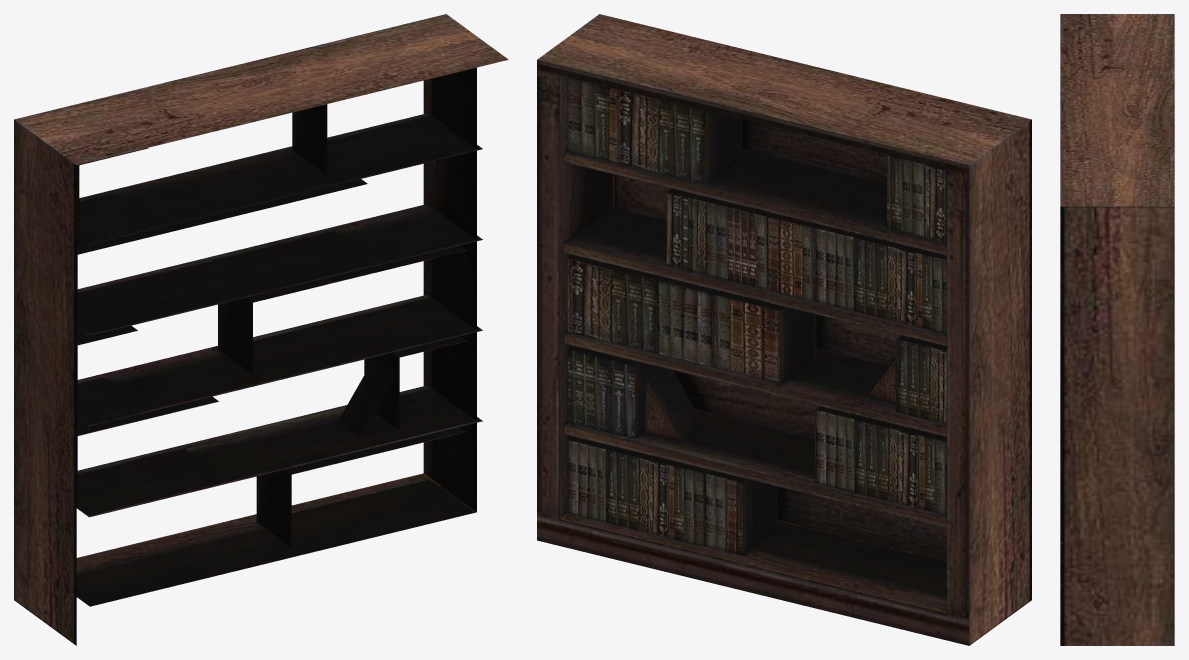
File: bookcase_small.glb
The picture shows the model from 3 angles, left to right: view 1: azimuth 30°, elevation 25°; view 2: azimuth 150°, elevation 25°; view 3: azimuth 270°, elevation 25°; orthographic projection. The views are drawn at different scales.
Visible parts, largest first — view 1: 0_bookcase_small; view 2: 0_bookcase_small; view 3: 0_bookcase_small.
Part boxes in pixels (left/top/right/bottom): 0_bookcase_small: left=14, top=14, right=508, bottom=645; 0_bookcase_small: left=537, top=14, right=1031, bottom=645; 0_bookcase_small: left=1060, top=14, right=1174, bottom=645.
Size of the model in its own units: 1.63 by 1.73 by 0.4071.
Materials: 1 (1 with a texture image).
